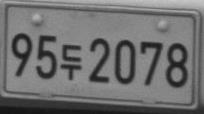0: (114, 39, 136, 84)
2: (87, 37, 110, 83)
5: (35, 34, 57, 79)
7: (140, 41, 163, 86)
8: (164, 41, 188, 88)
9: (10, 32, 33, 76)
두: (59, 43, 82, 80)
